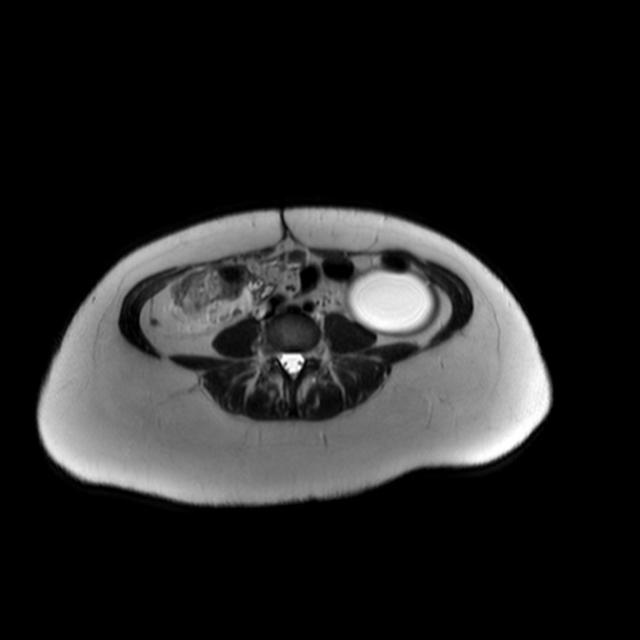sol: (344, 267, 438, 335)
